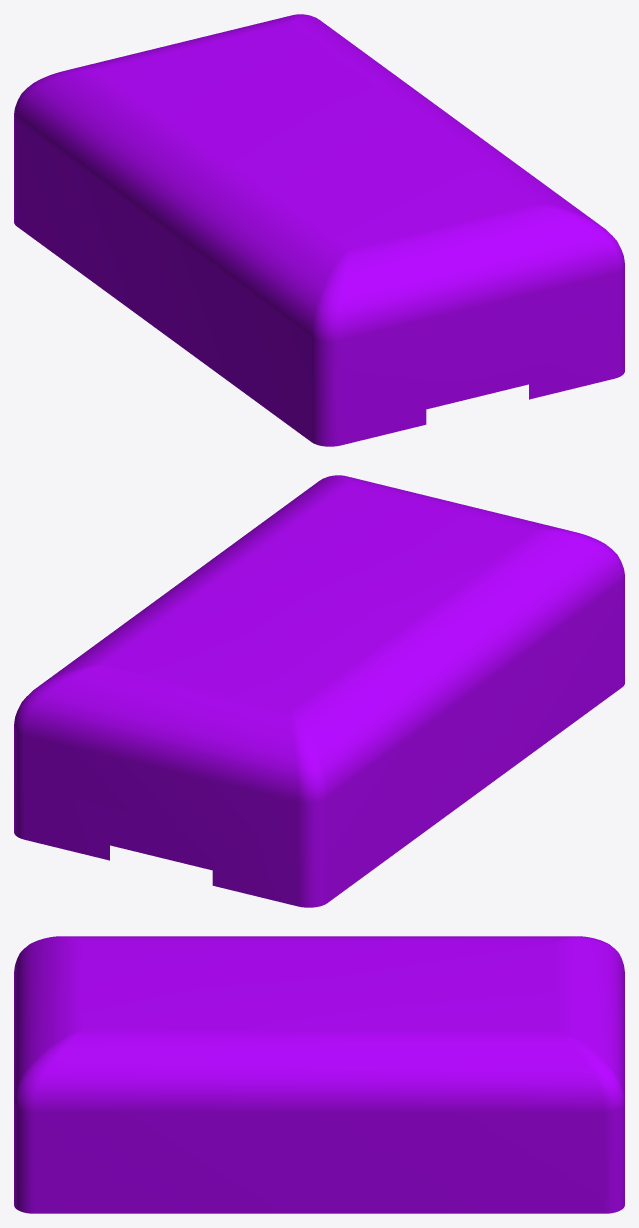
File: Map_EnergyWall.fbx
The picture shows the model from 3 angles, top to bottom: view 1: azimuth 30°, elevation 25°; view 2: azimuth 150°, elevation 25°; view 3: azimuth 270°, elevation 25°; orthographic projection. The views are drawn at different scales.
Visible parts, largest first — view 1: MAP_Energy wall; view 2: MAP_Energy wall; view 3: MAP_Energy wall.
Boxes of the visible parts, x1,y1,x2,y2 form: MAP_Energy wall: [14, 14, 624, 446]; MAP_Energy wall: [14, 475, 624, 907]; MAP_Energy wall: [14, 936, 624, 1213].
Bounding box in the file's own units: 4360 × 2144 × 7687.
Materials: 1 (1 with a texture image).
